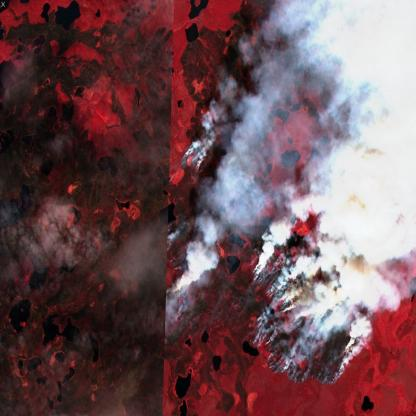fire: (246, 244, 372, 386), (161, 241, 216, 360), (174, 124, 218, 188)
